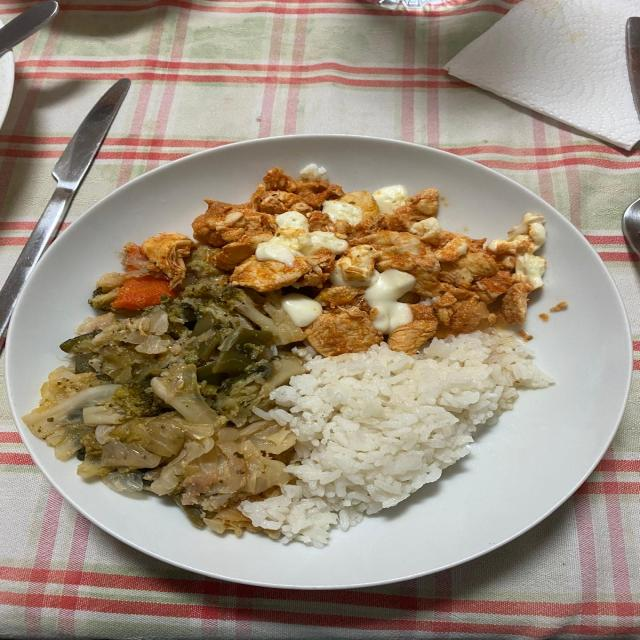garbage: (445, 0, 639, 150)
knife: (0, 79, 130, 339)
plate: (5, 134, 632, 589)
rice: (240, 331, 549, 547)
steak: (192, 166, 545, 356)
vegetables: (25, 234, 302, 525)
